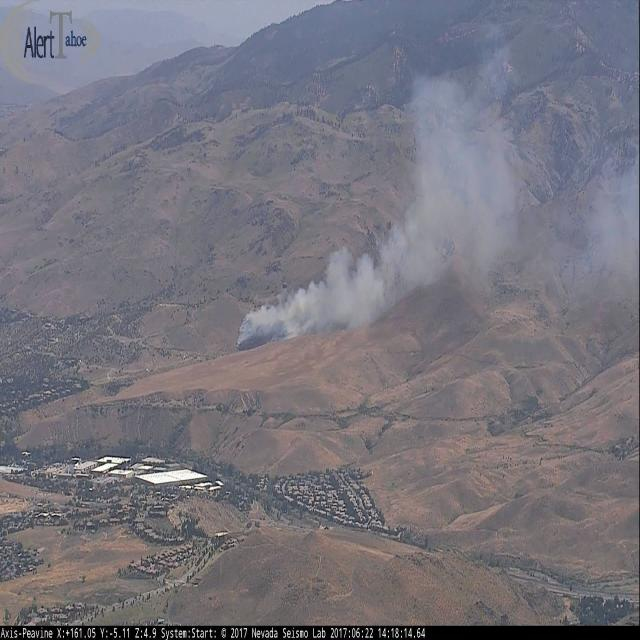smoke: (234, 64, 511, 351)
